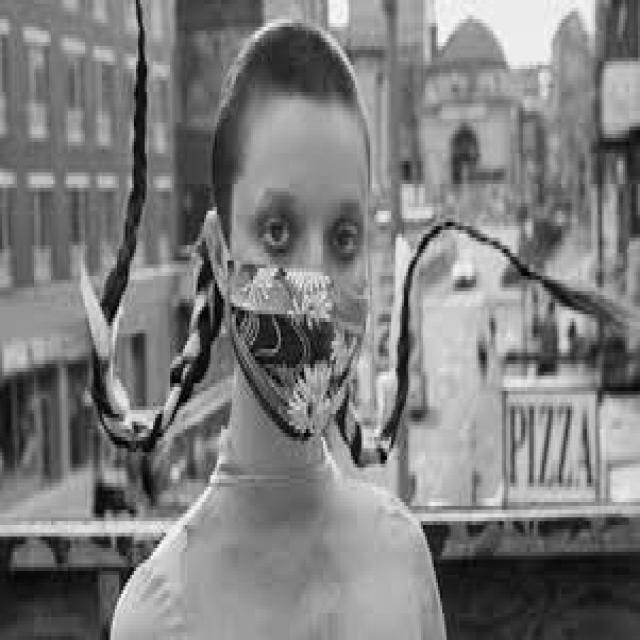fake: (222, 266, 366, 442)
real: (227, 103, 371, 446)
